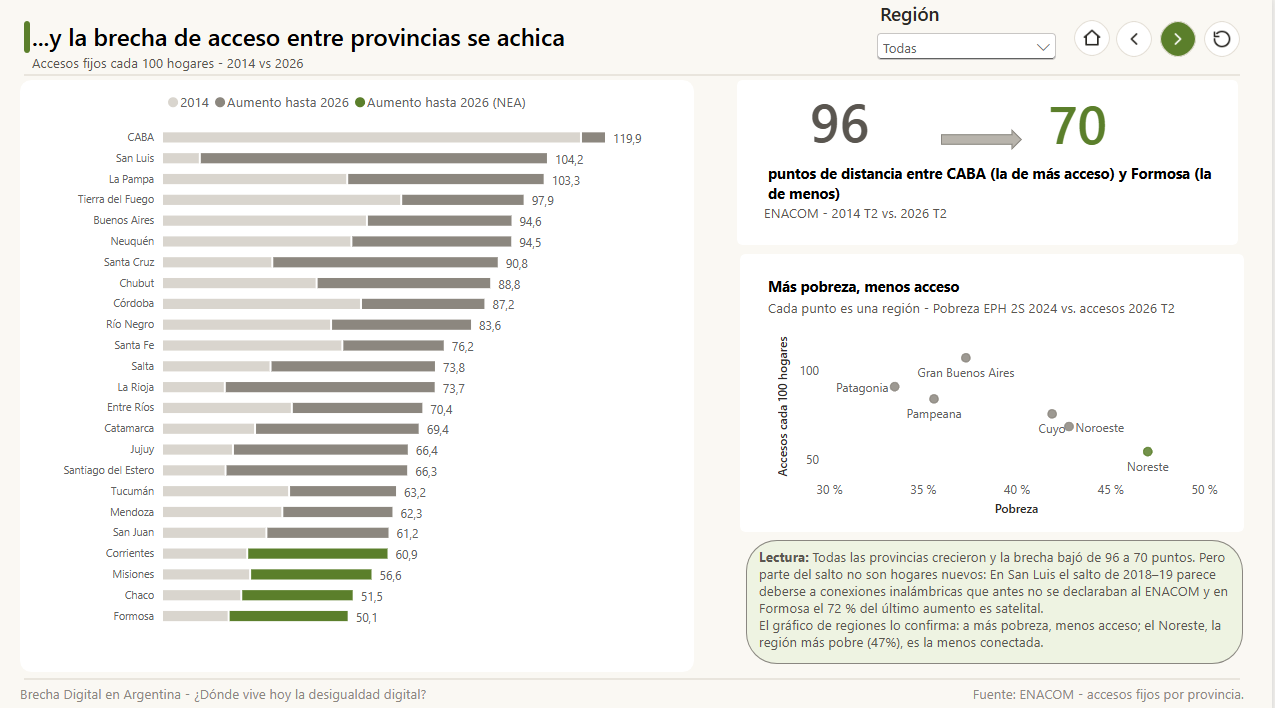

The dashboard page shown, as its layout file describes it:
{"tool":"powerbi","page":{"name":"2.Acceso","canvas":[1280,720],"ordinal":2},"visuals":[{"type":"textbox","box":[39.7,22.8,576.7,40.2],"z":0},{"type":"shape","box":[828.2,82.6,423.2,186.7],"z":0,"group":"g1"},{"type":"shape","box":[830.2,282.5,423.2,186.7],"z":0,"group":"g2"},{"type":"shape","box":[837.4,488.5,416.1,104],"z":0,"group":"g3"},{"type":"textbox","box":[39.7,57.1,320.1,25.9],"z":1000},{"type":"cardVisual","fields":{"Data":["fact_Accesos.Brecha CABA - Formosa"]},"box":[879.8,113.3,124.4,69.8],"z":1000,"group":"g1"},{"type":"textbox","box":[848.3,495.2,394.7,93.6],"z":1000,"group":"g3"},{"type":"actionButton","box":[1082,22.8,36,36],"z":2000},{"type":"textbox","box":[856.6,180.9,377.4,45.9],"z":2000,"group":"g1"},{"type":"textbox","box":[850.3,303.3,377.4,31.6],"z":2000,"group":"g2"},{"type":"actionButton","box":[1124,24,36,36],"z":3000},{"type":"textbox","box":[856.4,230.8,394.7,18],"z":3000,"group":"g1"},{"type":"textbox","box":[849.3,341.1,367.2,125.5],"z":3000,"group":"g2"},{"type":"actionButton","box":[1168,24,36,36],"z":4000},{"type":"cardVisual","fields":{"Data":["fact_Accesos.Brecha CABA - Formosa"]},"box":[1081.1,113.2,135.6,65.9],"z":4000,"group":"g1"},{"type":"actionButton","box":[1212,24,36,36],"z":5000},{"type":"shape","box":[1000.6,138.3,68.3,23.5],"z":5000,"group":"g1"},{"type":"textbox","box":[28,687.8,421.2,28],"z":6000},{"type":"textbox","box":[652,688,600,28],"z":7000},{"type":"shape","box":[27.5,82.6,760.9,592.6],"z":8000},{"type":"barChart","fields":{"Category":["dim_Provincias.Provincia"],"Y":["fact_Accesos.Accesos 2014","fact_Accesos.Aumento resto","fact_Accesos.Aumento NEA"]},"box":[47.9,76.5,740.5,605.8],"z":9000},{"type":"group","id":"g1","title":"Grupo 1","box":[828.2,82.6,423.2,186.7],"z":10000},{"type":"group","id":"g2","title":"Grupo 1","box":[830.2,282.5,423.3,186.6],"z":11000},{"type":"group","id":"g3","title":"Grupo 2","box":[837.4,488.5,416.1,104],"z":12000},{"type":"slicer","fields":{"Values":["dim_Provincias.Region"]},"box":[837.4,600.7,415.1,75.5],"z":13000}]}

Visuals, with their boxes in screenshot pixels (x1, y1, x2, y2), scaled from the page's 1280x720 canvas onto the 1275x708 screenshot:
textbox: region(40, 22, 614, 62)
shape: region(825, 81, 1247, 265)
shape: region(827, 278, 1249, 461)
shape: region(834, 480, 1249, 583)
textbox: region(40, 56, 358, 82)
cardVisual - fact_Accesos.Brecha CABA - Formosa: region(876, 111, 1000, 180)
textbox: region(845, 487, 1238, 579)
actionButton: region(1078, 22, 1114, 58)
textbox: region(853, 178, 1229, 223)
textbox: region(847, 298, 1223, 329)
actionButton: region(1120, 24, 1155, 59)
textbox: region(853, 227, 1246, 245)
textbox: region(846, 335, 1212, 459)
actionButton: region(1163, 24, 1199, 59)
cardVisual - fact_Accesos.Brecha CABA - Formosa: region(1077, 111, 1212, 176)
actionButton: region(1207, 24, 1243, 59)
shape: region(997, 136, 1065, 159)
textbox: region(28, 676, 447, 704)
textbox: region(649, 677, 1247, 704)
shape: region(27, 81, 785, 664)
barChart - dim_Provincias.Provincia x fact_Accesos.Accesos 2014: region(48, 75, 785, 671)
"Grupo 1" group: region(825, 81, 1247, 265)
"Grupo 1" group: region(827, 278, 1249, 461)
"Grupo 2" group: region(834, 480, 1249, 583)
slicer - dim_Provincias.Region: region(834, 591, 1248, 665)
